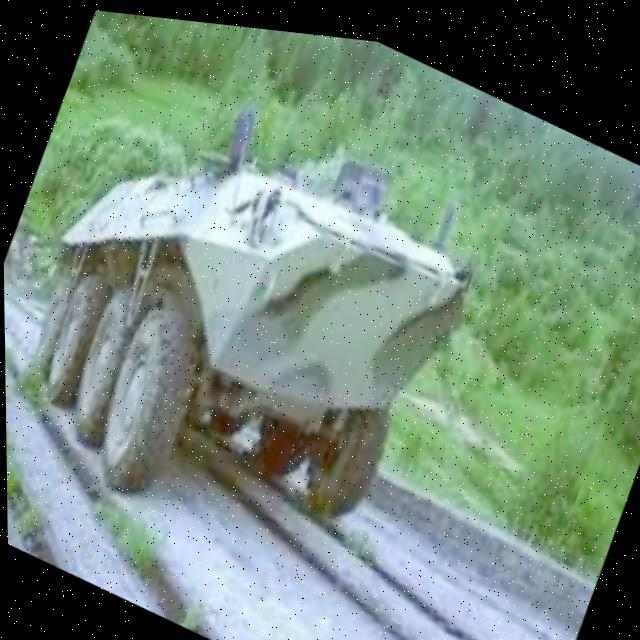MIL_APC: (1, 62, 508, 600)
